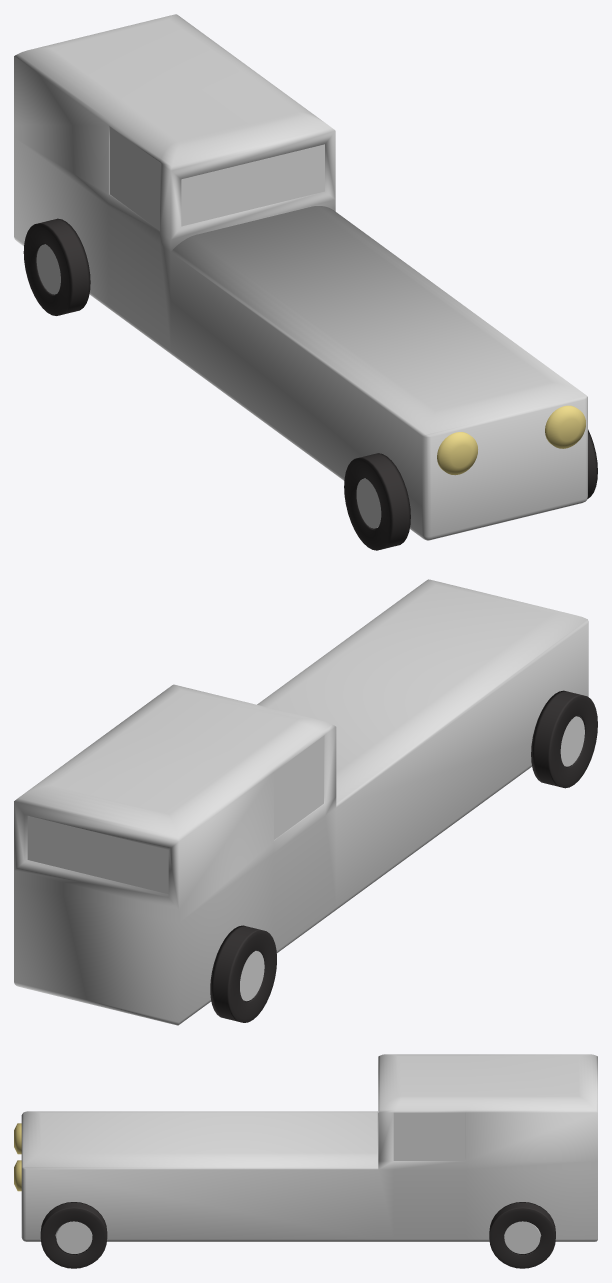
Rendered from Car Prototype.fbx.
3 views of the same model, one above another, from view 1: azimuth 30°, elevation 25°; view 2: azimuth 150°, elevation 25°; view 3: azimuth 270°, elevation 25° (orthographic). The views are drawn at different scales.
Visible parts, largest first — view 1: Cube, Cube.003, Cylinder.009, Cylinder.008, Cube.002, Cylinder.004, Cylinder.005, Cylinder.002, Cylinder.001; view 2: Cube, Cube.004, Cylinder.008, Cylinder.009, Cube.002, Cylinder.001, Cylinder.002; view 3: Cube, Cube.001, Cylinder.010, Cylinder.007, Cylinder, Cylinder.003.
Boxes of the visible parts, bbox=[...] form: Cube: bbox=[14, 14, 587, 540]; Cube.003: bbox=[181, 144, 324, 226]; Cylinder.009: bbox=[23, 218, 90, 315]; Cylinder.008: bbox=[344, 453, 410, 550]; Cube.002: bbox=[110, 126, 159, 230]; Cylinder.004: bbox=[545, 405, 585, 448]; Cylinder.005: bbox=[437, 432, 477, 475]; Cylinder.002: bbox=[356, 478, 381, 528]; Cylinder.001: bbox=[36, 244, 60, 294]; Cube: bbox=[14, 579, 588, 1025]; Cube.004: bbox=[27, 815, 168, 894]; Cylinder.008: bbox=[531, 690, 597, 788]; Cylinder.009: bbox=[210, 925, 276, 1022]; Cube.002: bbox=[274, 736, 323, 839]; Cylinder.001: bbox=[240, 951, 264, 1001]; Cylinder.002: bbox=[560, 716, 584, 766]; Cube: bbox=[21, 1054, 597, 1241]; Cube.001: bbox=[393, 1112, 465, 1160]; Cylinder.010: bbox=[489, 1202, 555, 1268]; Cylinder.007: bbox=[40, 1202, 107, 1268]; Cylinder: bbox=[504, 1221, 540, 1253]; Cylinder.003: bbox=[56, 1221, 92, 1253].
Bounding box in the file's own units: 369 × 383 × 1290.
